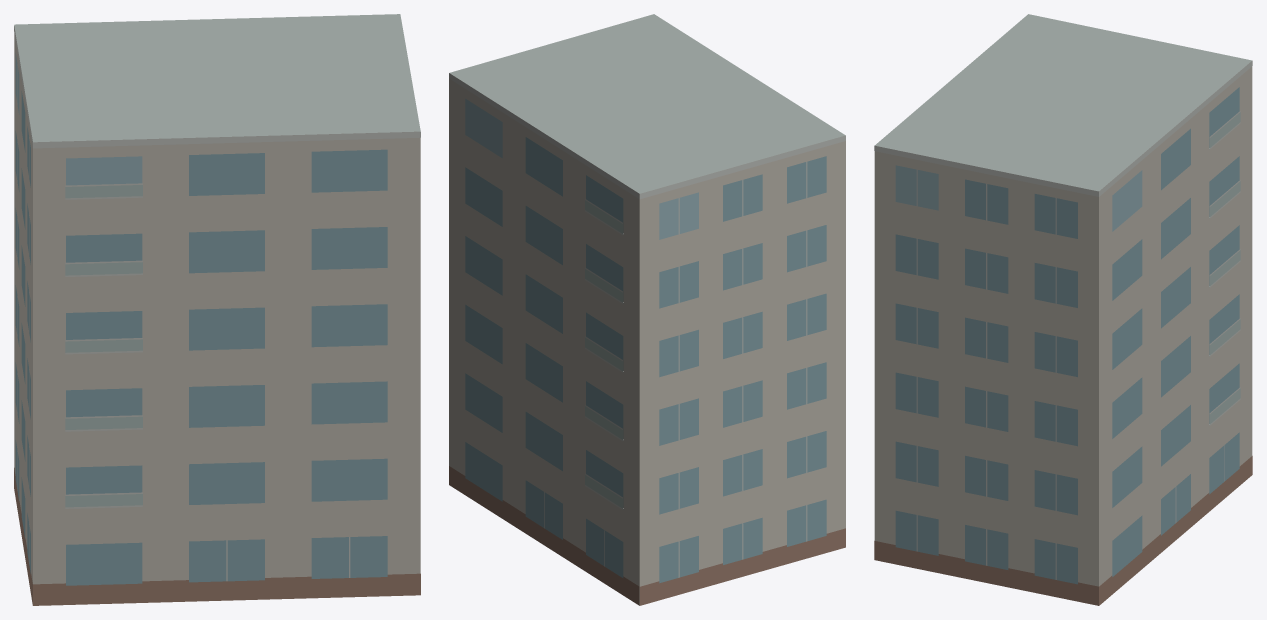
Rendered from survey-upis-33043902.glb.
The picture shows the model from 3 angles, left to right: view 1: azimuth 30°, elevation 25°; view 2: azimuth 150°, elevation 25°; view 3: azimuth 270°, elevation 25°; orthographic projection. The views are drawn at different scales.
Parts seen in each view (by area): view 1: survey-upis-33043902.tmp; view 2: survey-upis-33043902.tmp; view 3: survey-upis-33043902.tmp.
Part boxes in pixels (bbox=[...]): survey-upis-33043902.tmp: bbox=[14, 14, 420, 605]; survey-upis-33043902.tmp: bbox=[449, 14, 845, 605]; survey-upis-33043902.tmp: bbox=[874, 14, 1252, 605].
Bounding box in the file's own units: 16.86 × 18.35 × 15.18.
